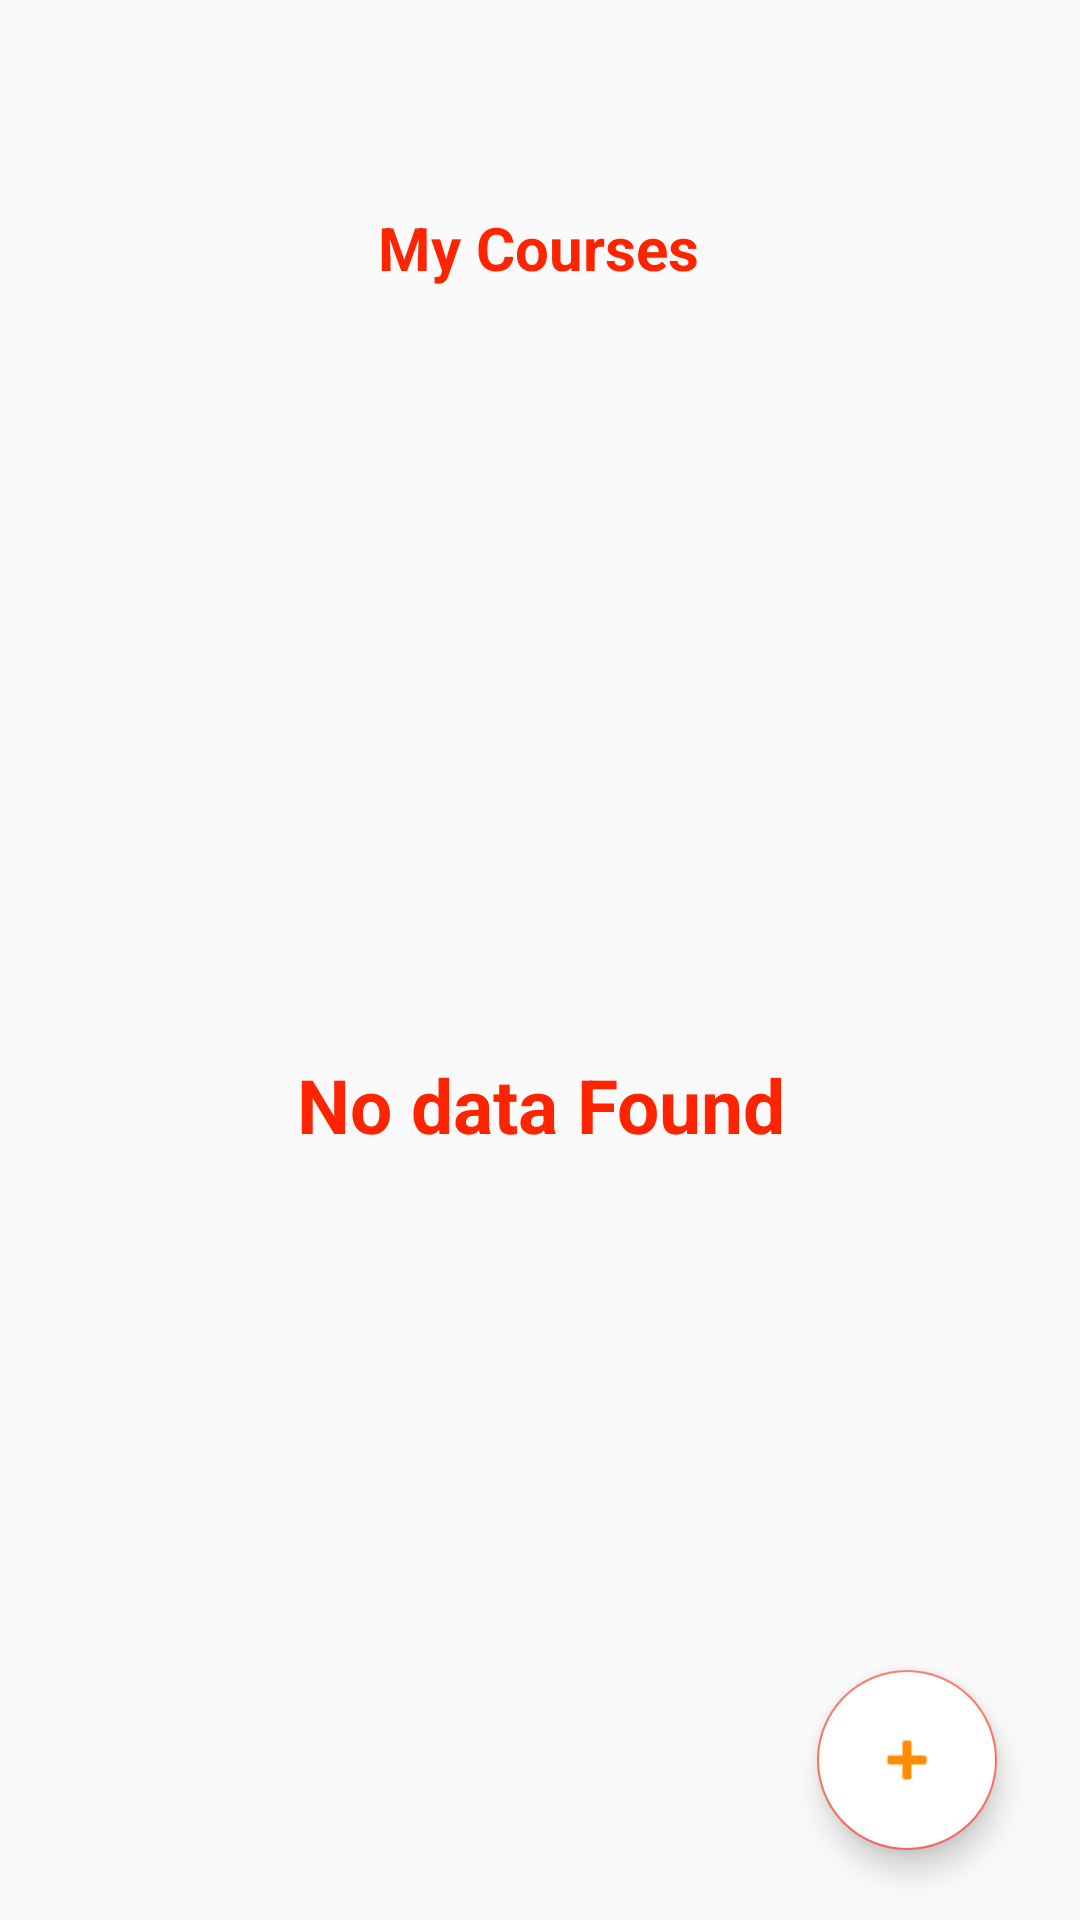

Icon click points for this 1080×1920 phone screenshot, format (x,y):
add: (907,1760)
